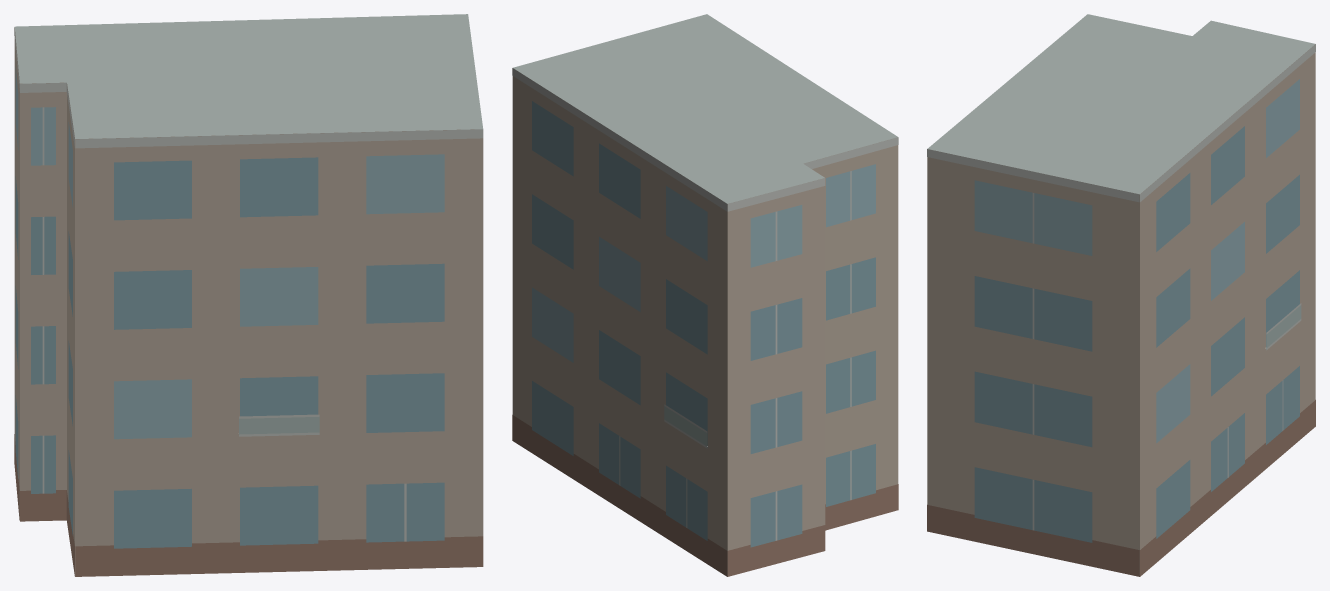
Rendered from survey-upis-33027130.glb.
The picture shows the model from 3 angles, left to right: view 1: azimuth 30°, elevation 25°; view 2: azimuth 150°, elevation 25°; view 3: azimuth 270°, elevation 25°; orthographic projection. The views are drawn at different scales.
Visible parts, largest first — view 1: survey-upis-33027130.tmp; view 2: survey-upis-33027130.tmp; view 3: survey-upis-33027130.tmp.
Part boxes in pixels (box(x1,y1,x2,y2)): survey-upis-33027130.tmp: box(14, 14, 483, 576); survey-upis-33027130.tmp: box(512, 14, 898, 576); survey-upis-33027130.tmp: box(927, 14, 1315, 576).
Bounding box in the file's own units: 11.64 × 11.5 × 10.6.
